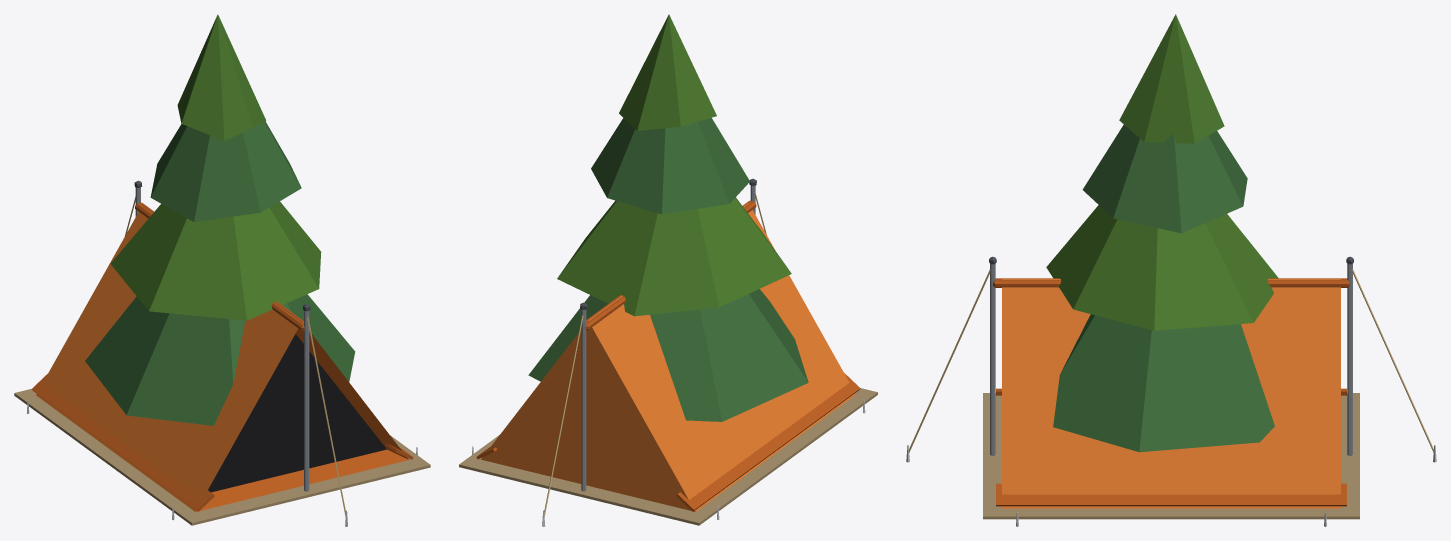
File: camping-props.glb
3 views of the same model, side by side, from view 1: azimuth 30°, elevation 25°; view 2: azimuth 150°, elevation 25°; view 3: azimuth 270°, elevation 25° (orthographic). The views are drawn at different scales.
Visible parts, largest first — view 1: SM_Pine_Tree_Tall, SM_Tent_Orange; view 2: SM_Pine_Tree_Tall, SM_Tent_Orange; view 3: SM_Pine_Tree_Tall, SM_Tent_Orange.
Boxes of the visible parts, x1,y1,x2,y2 form: SM_Pine_Tree_Tall: (85,14,355,425); SM_Tent_Orange: (14,180,430,526); SM_Pine_Tree_Tall: (528,14,808,421); SM_Tent_Orange: (459,178,877,526); SM_Pine_Tree_Tall: (1046,14,1278,452); SM_Tent_Orange: (906,256,1436,526).
Bounding box in the file's own units: 1.96 × 3.21 × 3.44.
Materials: 2 (2 with a texture image).
